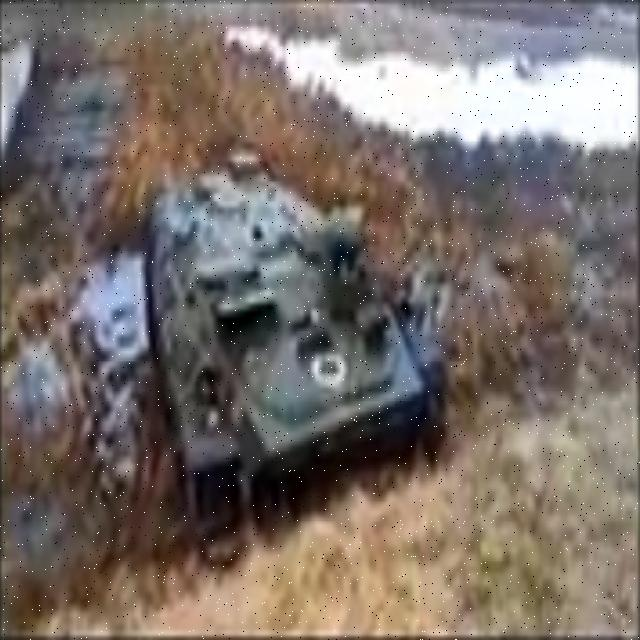APC-IFV: (142, 149, 452, 547)
